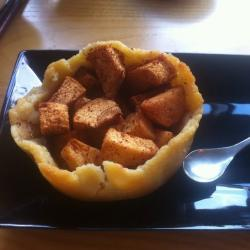apple_pie: (7, 44, 224, 204)
